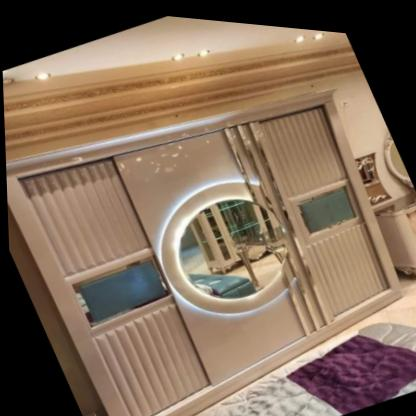Closet: (5, 84, 402, 416)
